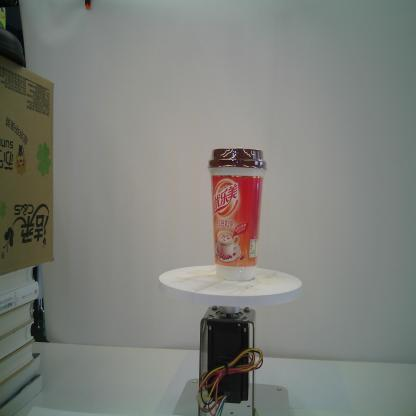Instant Drink: (207, 147, 268, 280)
